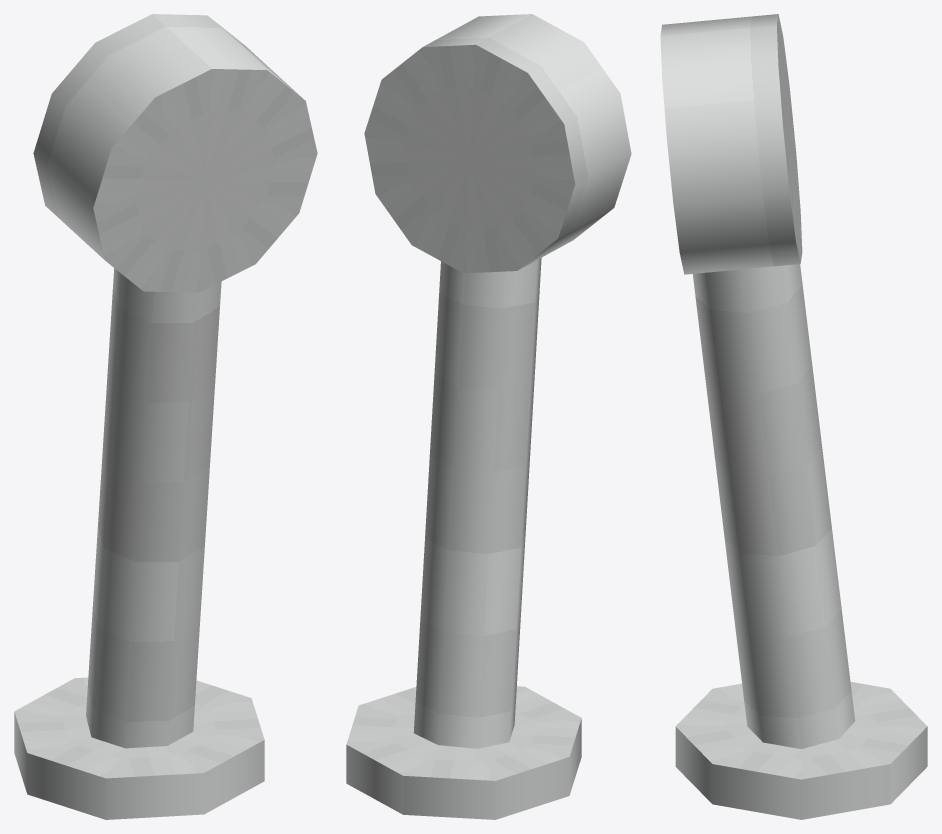
File: trusssignalarm_stub_33.obj
3 views of the same model, side by side, from view 1: azimuth 30°, elevation 25°; view 2: azimuth 150°, elevation 25°; view 3: azimuth 270°, elevation 25° (orthographic). The views are drawn at different scales.
Parts seen in each view (by area): view 1: trusssignalarm_stub_33; view 2: trusssignalarm_stub_33; view 3: trusssignalarm_stub_33.
Part boxes in pixels (bbox=[...]): trusssignalarm_stub_33: bbox=[14, 14, 317, 819]; trusssignalarm_stub_33: bbox=[346, 14, 631, 819]; trusssignalarm_stub_33: bbox=[660, 14, 927, 819].
Bounding box in the file's own units: 0.35 × 1.14 × 0.3711.
